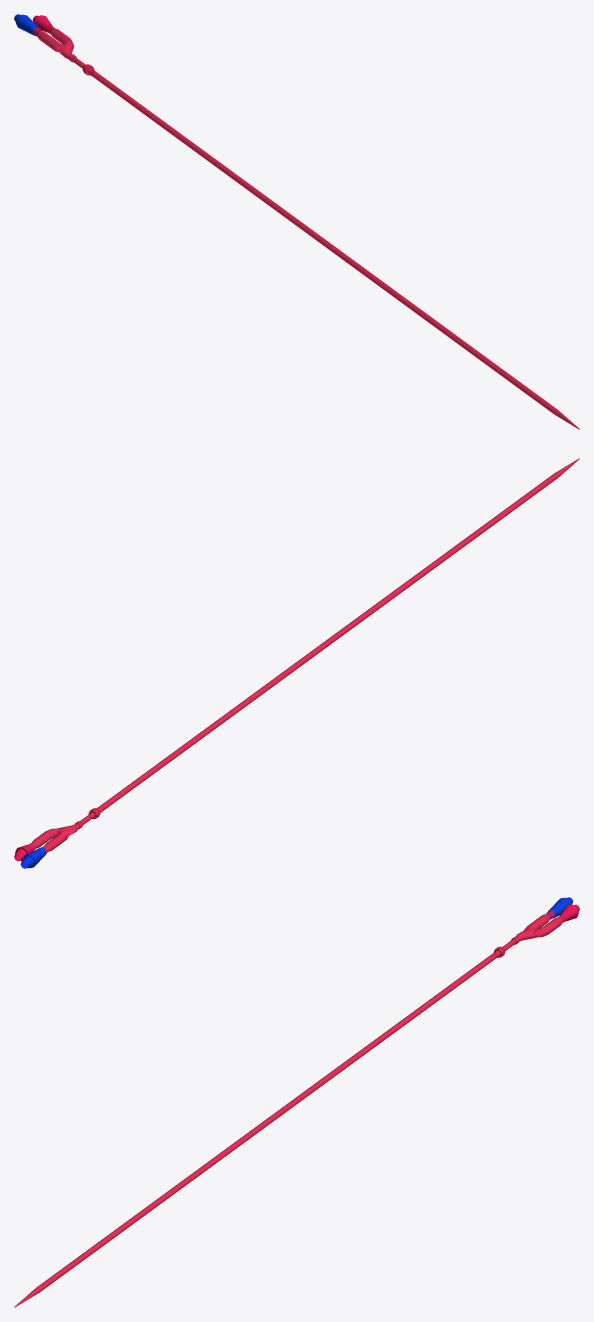
The model's file is cannula_crescent.fbx.
3 renders of one model, top to bottom at view 1: azimuth 30°, elevation 25°; view 2: azimuth 150°, elevation 25°; view 3: azimuth 330°, elevation 25°, orthographic.
Visible parts, largest first — view 1: CrescentCan, Cylinder.001; view 2: CrescentCan, Cylinder.001; view 3: CrescentCan, Cylinder.001.
Part boxes in pixels (box(x1,y1,x2,y2)): CrescentCan: box(32, 24, 579, 429); Cylinder.001: box(14, 14, 52, 35); CrescentCan: box(28, 458, 579, 853); Cylinder.001: box(14, 844, 46, 868); CrescentCan: box(14, 910, 567, 1307); Cylinder.001: box(547, 897, 579, 921).
Size of the model in its own units: 0.888 by 0.4769 by 32.74.
